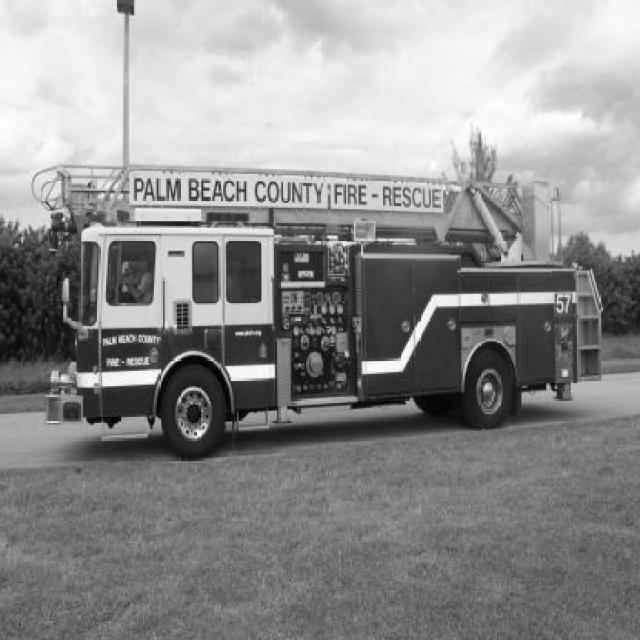Fire Truck: (31, 165, 602, 460)
